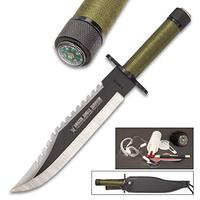knife: (8, 9, 178, 196)
